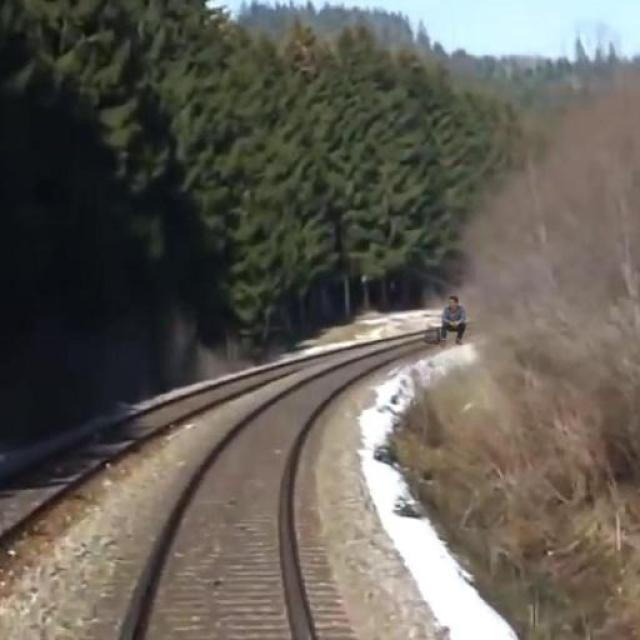people: (442, 289, 469, 342)
